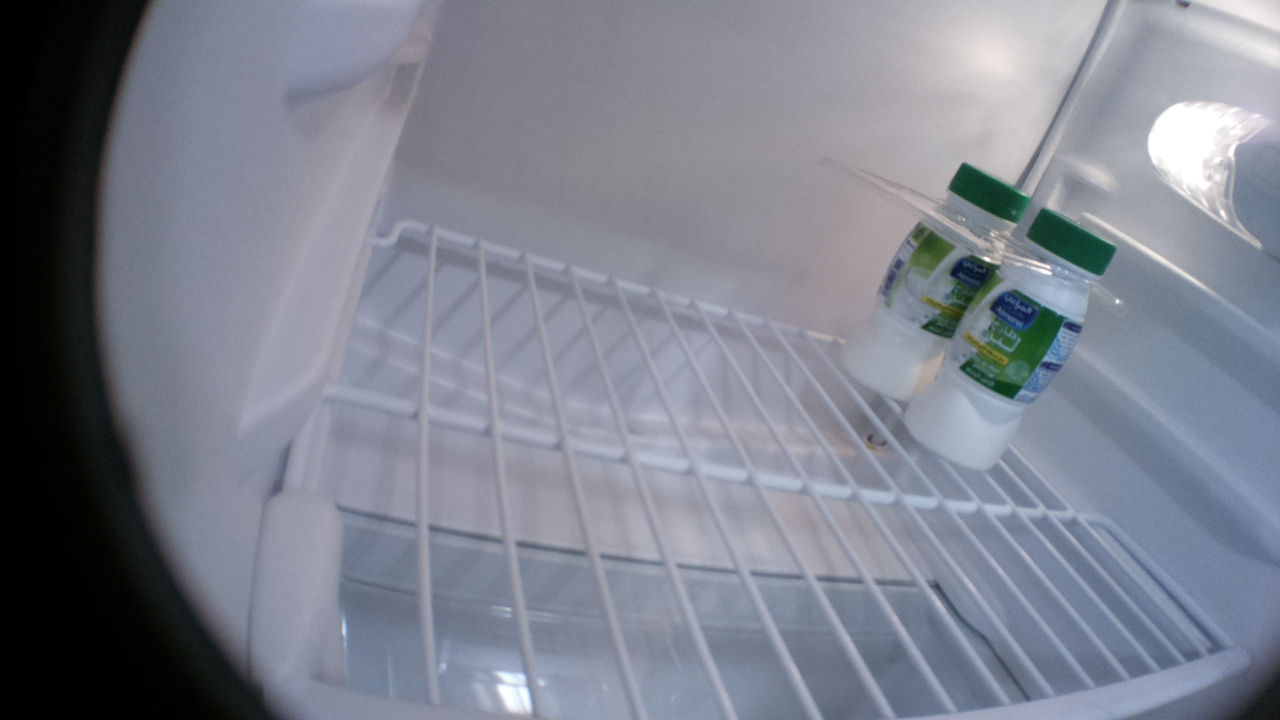laban: (898, 206, 1117, 467), (831, 160, 1030, 397)
